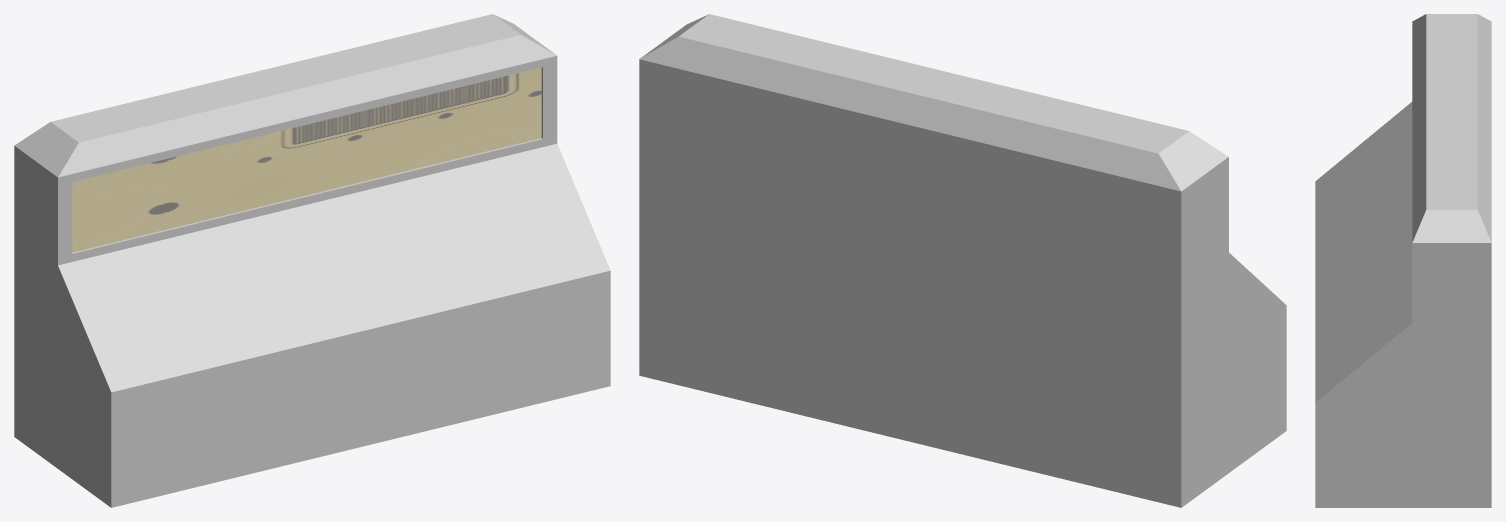
Rendered from control_panel_simon_says_puzzle.fbx.
3 renders of one model, left to right at view 1: azimuth 30°, elevation 25°; view 2: azimuth 150°, elevation 25°; view 3: azimuth 270°, elevation 25°, orthographic. The views are drawn at different scales.
Visible parts, largest first — view 1: Cube, Cube.001; view 2: Cube; view 3: Cube.
Part boxes in pixels (left/top/right/bottom): Cube: left=14, top=14, right=610, bottom=507; Cube.001: left=72, top=67, right=541, bottom=252; Cube: left=639, top=14, right=1286, bottom=507; Cube: left=1315, top=14, right=1491, bottom=507.
Size of the model in its own units: 594 by 357 by 200.
2 materials, 1 textured.
